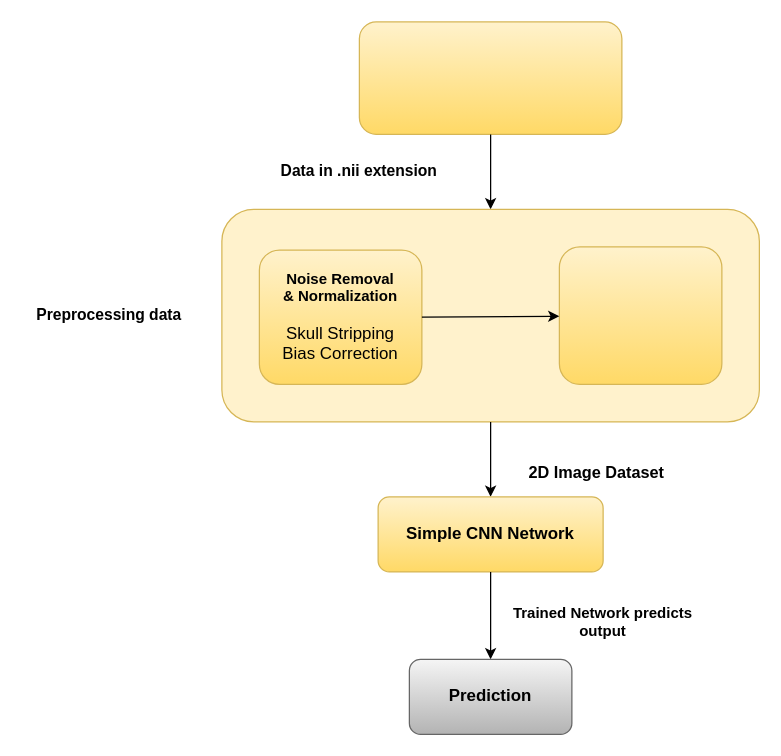
Image size: 781x756. Some labels were removed from this diagram. The shapes that lost their labels are listed below. From the top down, each one's centre as x and y in pixels, then its label:
At [490,77]: "ADNI Dataset".
At [640,315]: "Segmentation Using Otsu Threshold and HMRF Tissue Classifier".
